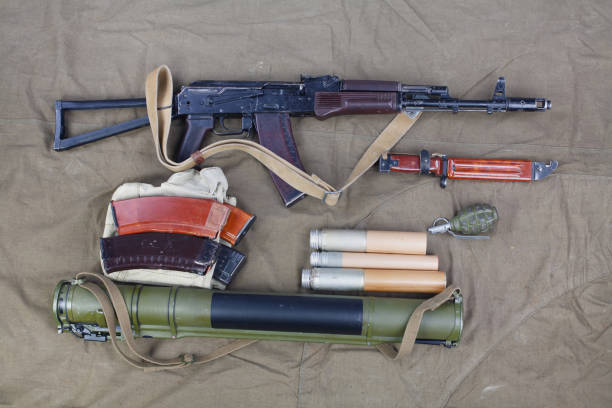e1: (428, 202, 499, 243)
